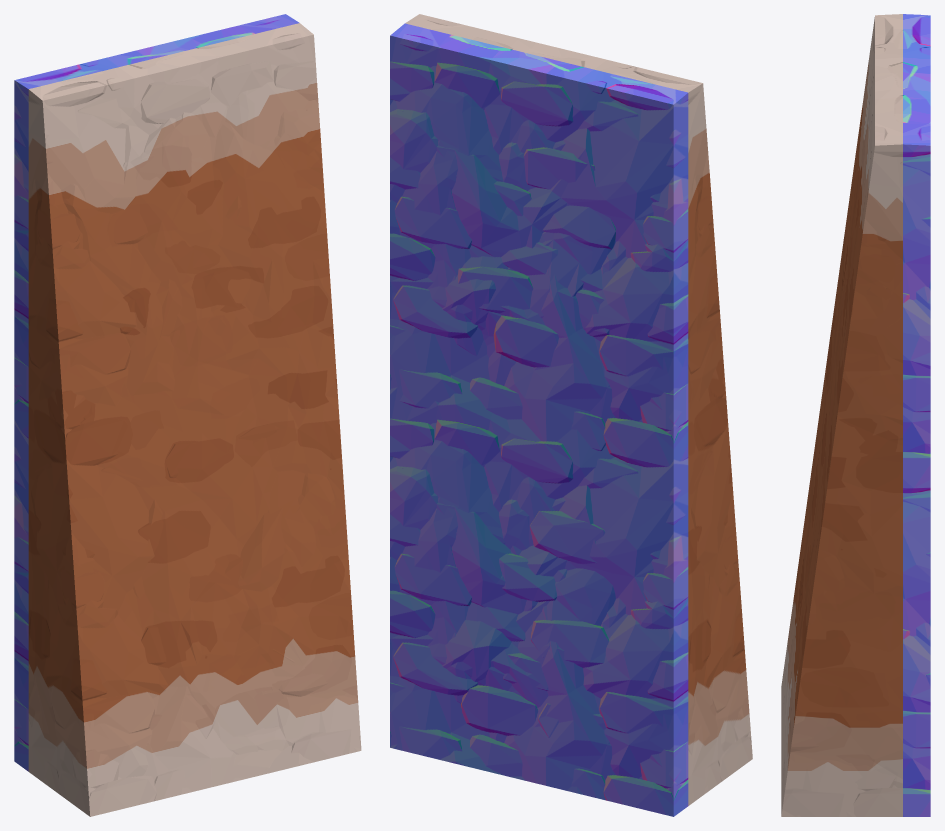
File: SM_Bld_Wall_Top_Half_01.fbx
3 views of the same model, side by side, from view 1: azimuth 30°, elevation 25°; view 2: azimuth 150°, elevation 25°; view 3: azimuth 270°, elevation 25° (orthographic). The views are drawn at different scales.
Parts seen in each view (by area): view 1: SM_Bld_Wall_Top_Half_01; view 2: SM_Bld_Wall_Top_Half_01; view 3: SM_Bld_Wall_Top_Half_01.
Boxes of the visible parts, box(x1,y1,x2,y2) form: SM_Bld_Wall_Top_Half_01: box(14, 14, 361, 816); SM_Bld_Wall_Top_Half_01: box(390, 14, 752, 816); SM_Bld_Wall_Top_Half_01: box(781, 14, 930, 816).
Size of the model in its own units: 125 by 301 by 60.45.
